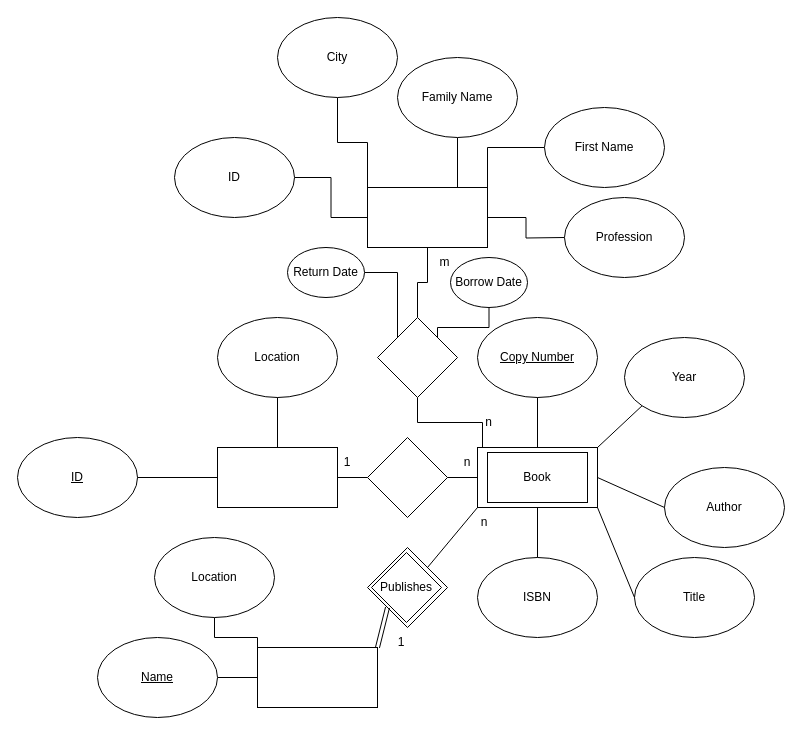
Some shapes in this 802 by 735 pixel diagram are drawn without their labels. The box of each missing label's shape, as (x1, y1, x2, y2) in pixels:
Borrows: (376, 316, 458, 398)
has: (366, 436, 448, 518)
Library: (216, 446, 338, 508)
Publisher: (256, 646, 378, 708)
Reader: (366, 186, 488, 248)
